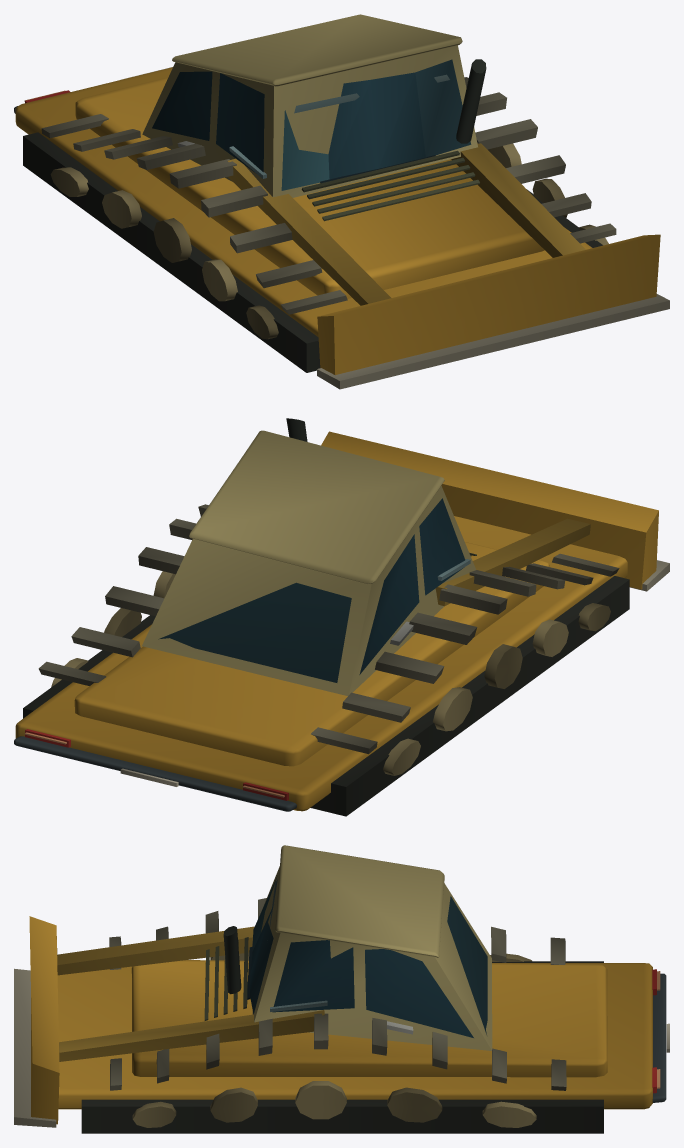
The model's file is bulldozer.glb.
3 views of the same model, one above another, from view 1: azimuth 30°, elevation 25°; view 2: azimuth 150°, elevation 25°; view 3: azimuth 270°, elevation 25° (orthographic). The views are drawn at different scales.
Parts seen in each view (by area): view 1: bulldozer_body; view 2: bulldozer_body; view 3: bulldozer_body.
Part boxes in pixels (x1,y1,x2,y2): bulldozer_body: (14, 14, 669, 389); bulldozer_body: (14, 418, 669, 816); bulldozer_body: (14, 845, 669, 1133).
Size of the model in its own units: 2.96 by 1.61 by 5.35.
